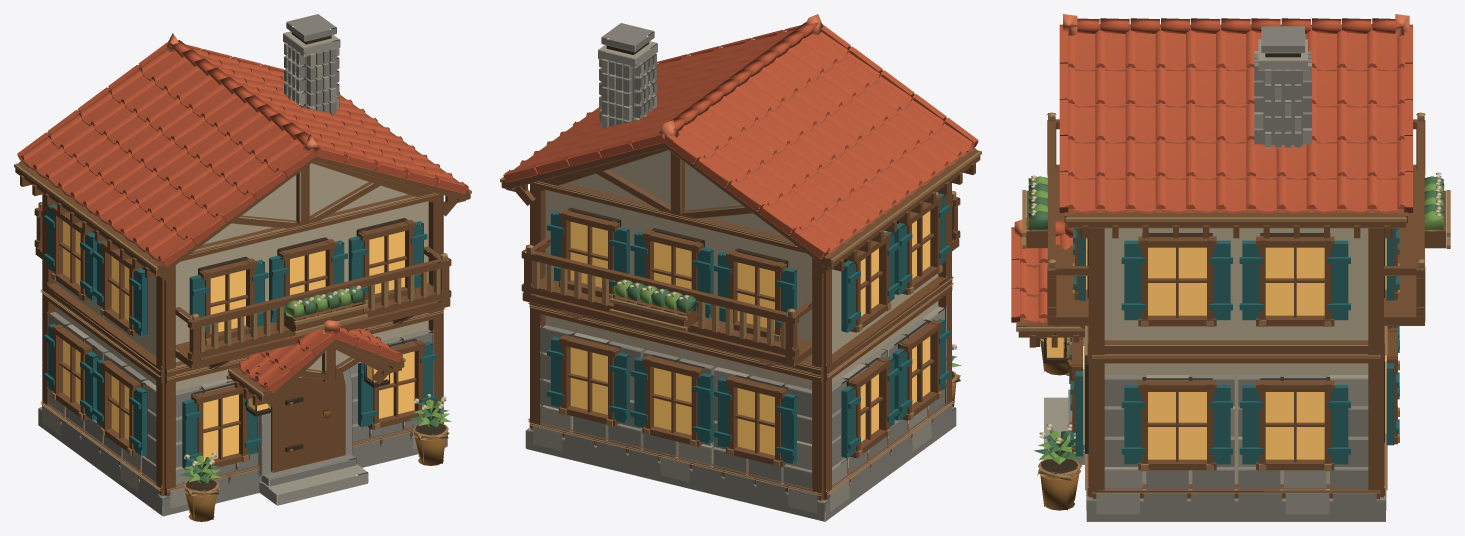
3 views of the same model, side by side, from view 1: azimuth 30°, elevation 25°; view 2: azimuth 150°, elevation 25°; view 3: azimuth 270°, elevation 25° (orthographic). The views are drawn at different scales.
Visible parts, largest first — view 1: alpine_hotel_2_geometry, alpine_hotel_2_geometry ceramic; view 2: alpine_hotel_2_geometry, alpine_hotel_2_geometry ceramic; view 3: alpine_hotel_2_geometry, alpine_hotel_2_geometry ceramic.
Boxes of the visible parts, left/top/right/bottom form: alpine_hotel_2_geometry: left=14, top=14, right=471, bottom=521; alpine_hotel_2_geometry ceramic: left=17, top=33, right=468, bottom=393; alpine_hotel_2_geometry: left=500, top=23, right=981, bottom=521; alpine_hotel_2_geometry ceramic: left=503, top=14, right=978, bottom=259; alpine_hotel_2_geometry: left=1016, top=26, right=1450, bottom=521; alpine_hotel_2_geometry ceramic: left=1011, top=14, right=1412, bottom=326.
Size of the model in its own units: 0.99 by 1.12 by 0.98.
